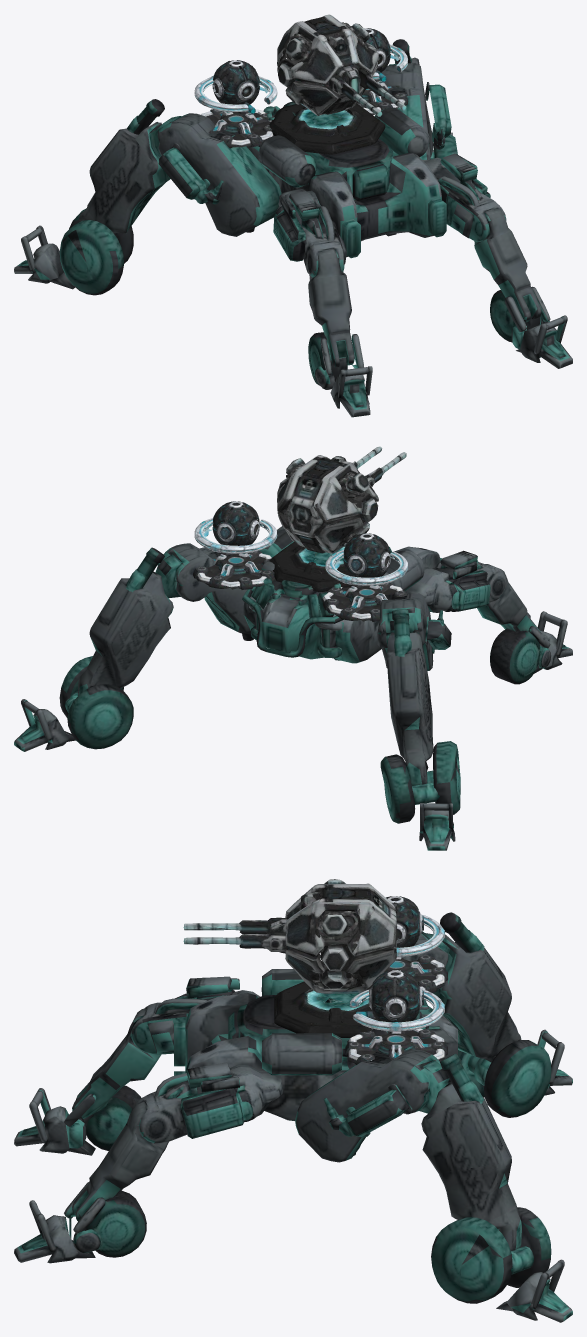
The picture shows the model from 3 angles, top to bottom: view 1: azimuth 30°, elevation 25°; view 2: azimuth 150°, elevation 25°; view 3: azimuth 270°, elevation 25°; orthographic projection. The views are drawn at different scales.
Parts seen in each view (by area): view 1: merged (×3), body, br_thigh, br_shin, br_foot, fr_thigh, fl_thigh, fl_foot, fr_shin, fl_shin, fr_foot, bl_thigh; view 2: merged (×3), body, bl_shin, bl_foot, br_shin, br_foot, fr_thigh, fr_foot, bl_thigh, br_thigh, fr_shin; view 3: merged (×3), body, bl_shin, bl_foot, bl_thigh, fl_thigh, br_shin, fl_foot, br_foot, fr_foot, fl_shin, fr_thigh (+1 smaller).
Part boxes in pixels (bbox=[...]): merged (×3): bbox=[194, 14, 408, 154]; body: bbox=[246, 101, 446, 258]; br_thigh: bbox=[157, 113, 281, 236]; br_shin: bbox=[78, 99, 181, 233]; br_foot: bbox=[14, 208, 133, 295]; fr_thigh: bbox=[273, 189, 346, 277]; fl_thigh: bbox=[422, 153, 506, 241]; fl_foot: bbox=[490, 286, 572, 368]; fr_shin: bbox=[308, 249, 354, 368]; fl_shin: bbox=[474, 209, 541, 322]; fr_foot: bbox=[308, 332, 372, 417]; bl_thigh: bbox=[381, 63, 451, 159]; merged (×3): bbox=[193, 446, 407, 621]; body: bbox=[242, 526, 441, 663]; bl_shin: bbox=[78, 547, 181, 695]; bl_foot: bbox=[14, 656, 133, 751]; br_shin: bbox=[386, 609, 433, 785]; br_foot: bbox=[380, 741, 460, 850]; fr_thigh: bbox=[405, 550, 506, 612]; fr_foot: bbox=[490, 611, 572, 684]; bl_thigh: bbox=[157, 543, 253, 640]; br_thigh: bbox=[377, 593, 451, 670]; fr_shin: bbox=[477, 564, 540, 631]; merged (×3): bbox=[183, 879, 447, 1064]; body: bbox=[174, 969, 457, 1120]; bl_shin: bbox=[419, 1053, 521, 1251]; bl_foot: bbox=[431, 1207, 572, 1322]; bl_thigh: bbox=[295, 1049, 440, 1162]; fl_thigh: bbox=[133, 1062, 283, 1143]; br_shin: bbox=[423, 912, 521, 1062]; fl_foot: bbox=[14, 1182, 146, 1263]; br_foot: bbox=[448, 1029, 572, 1117]; fr_foot: bbox=[14, 1085, 141, 1155]; fl_shin: bbox=[72, 1101, 168, 1221]; fr_thigh: bbox=[131, 976, 260, 1054].
Size of the model in its own units: 15.85 by 9.34 by 15.23.
Materials: 41 (41 with a texture image).
